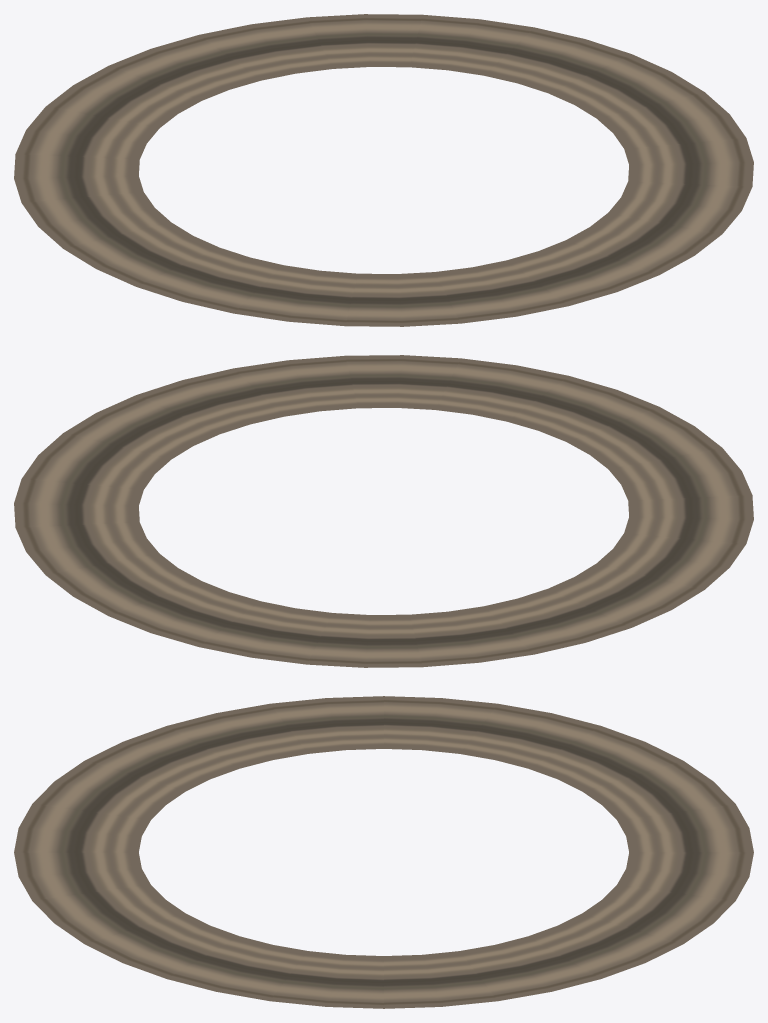
File: SaturnRing.dae
3 views of the same model, one above another, from view 1: azimuth 30°, elevation 25°; view 2: azimuth 150°, elevation 25°; view 3: azimuth 270°, elevation 25° (orthographic).
Visible parts, largest first — view 1: pCylinder1; view 2: pCylinder1; view 3: pCylinder1.
Boxes of the visible parts, box(x1,y1,x2,y2) form: pCylinder1: box(14, 14, 753, 326); pCylinder1: box(14, 355, 753, 667); pCylinder1: box(14, 696, 753, 1008).
Size of the model in its own units: 3349 by 0 by 3349.
Materials: 1 (1 with a texture image).
